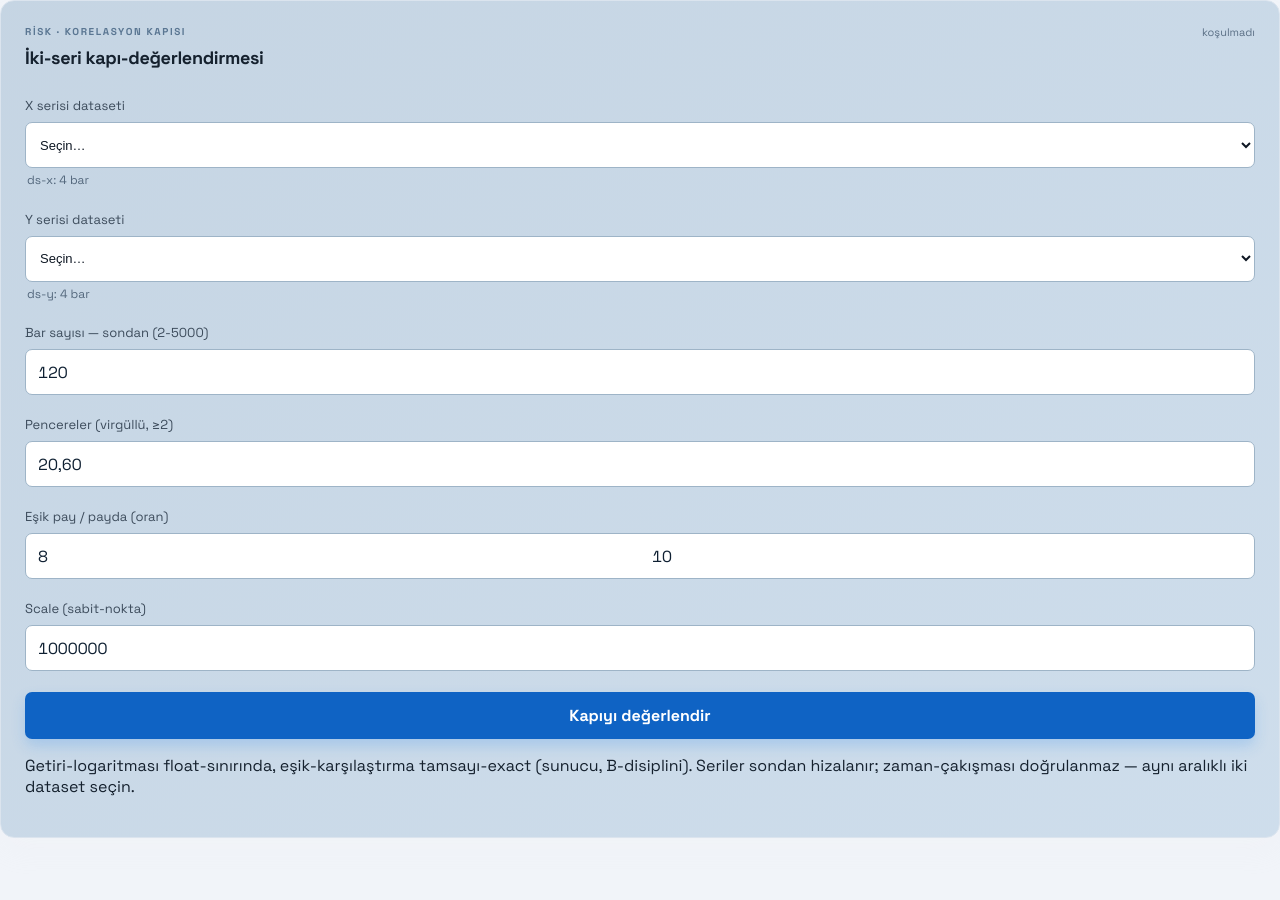
Test: CorrelationPanel › AA.10b: form-doğrulama (bar-sayısı, yetersiz-seri, pencere, eşik)
The image size is (1280, 900).
Replace the text in the field labelled "Bar sayısı — sondan (2-5000)" with "9" at (640, 372), box [26,351,1254,394]
Click the button "Kapıyı değerlendir" at (640, 716), box [25,692,1255,739]
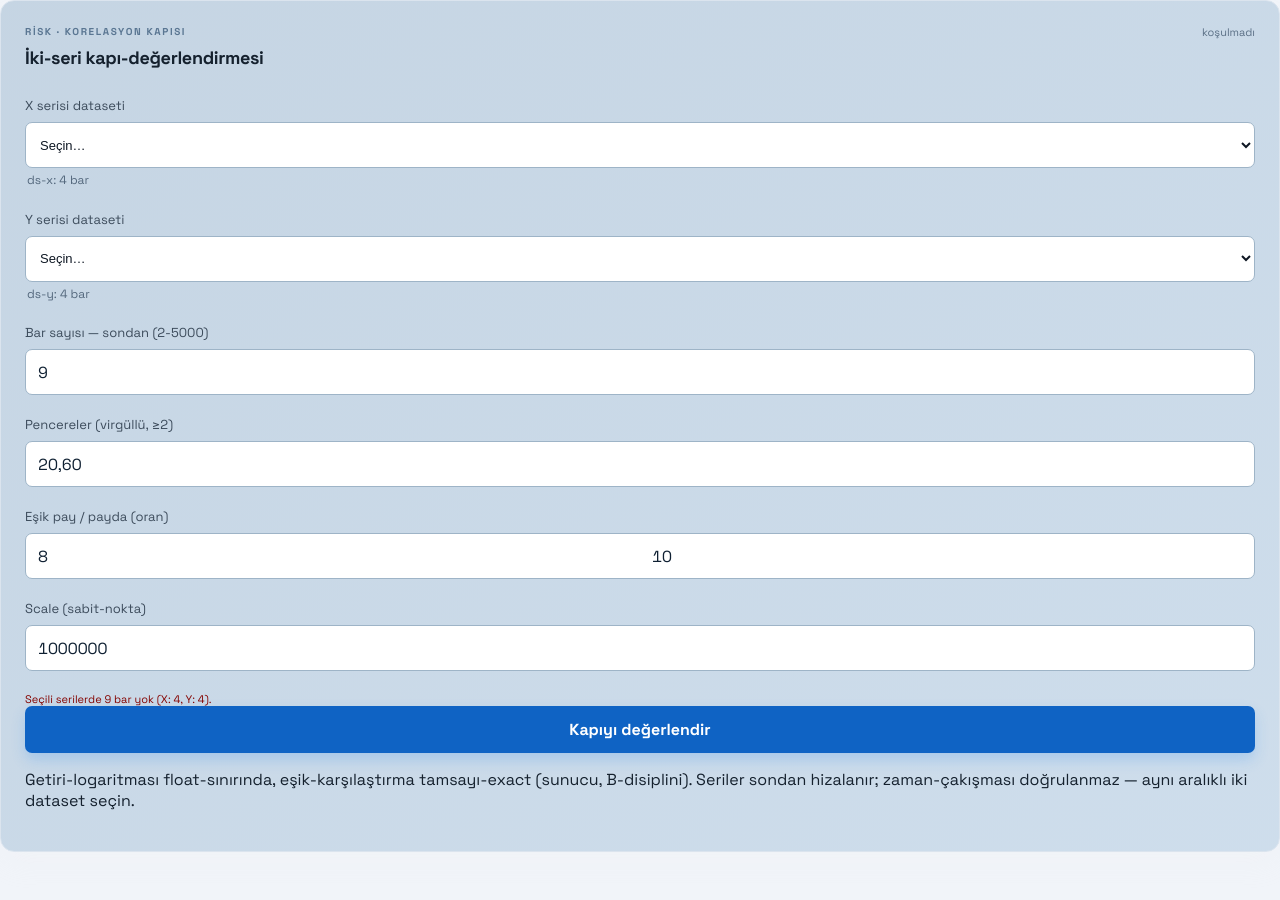
Expected: the message shows "9 bar yok", [25,692,212,706]
Replace the text in the field labelled "Bar sayısı — sondan (2-5000)" with "4" at (640, 372), box [26,351,1254,394]
Replace the text in the field labelled "Pencereler (virgüllü, ≥2)" with "1,20" at (640, 464), box [26,443,1254,486]
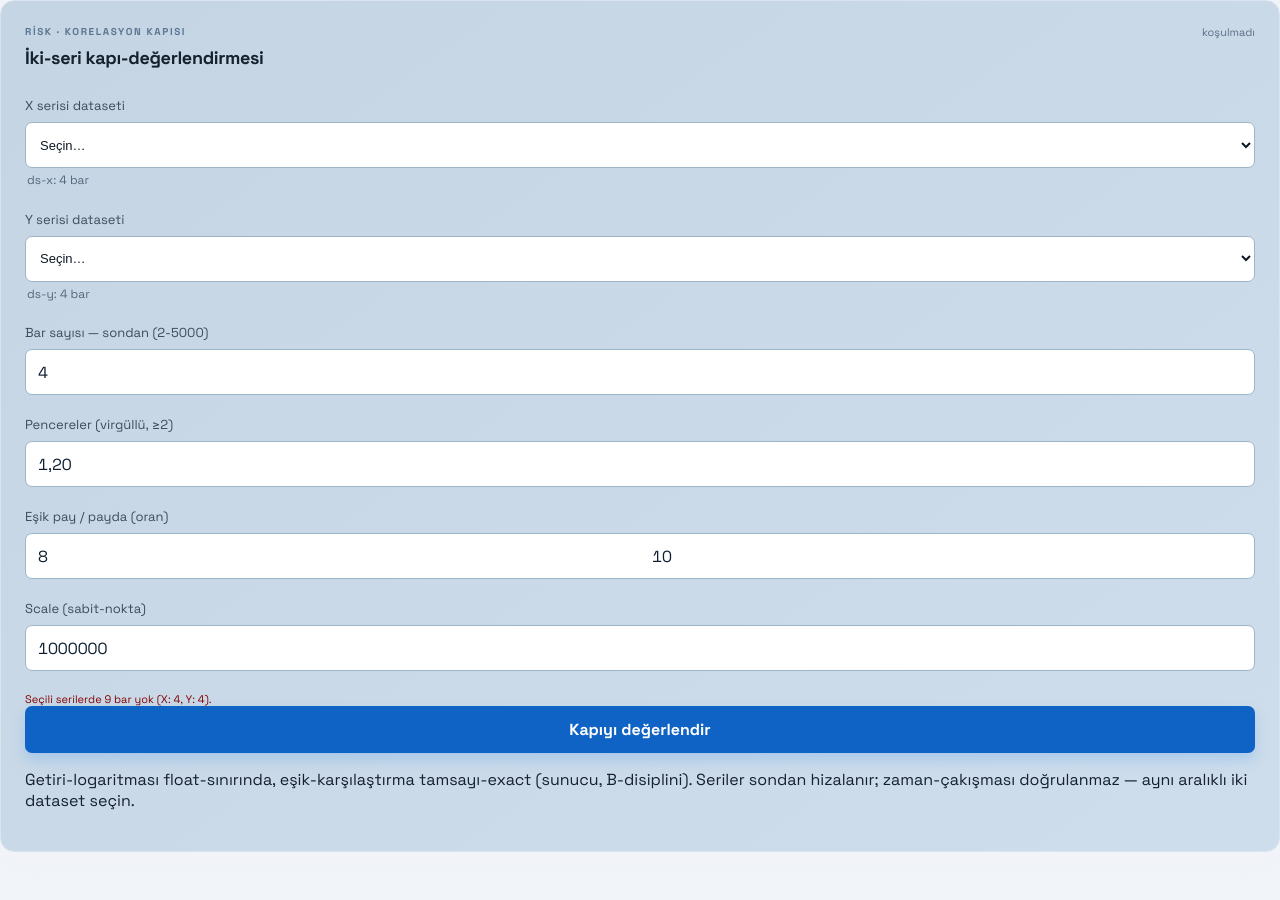
Click the button "Kapıyı değerlendir" at (640, 730), box [25,706,1255,753]
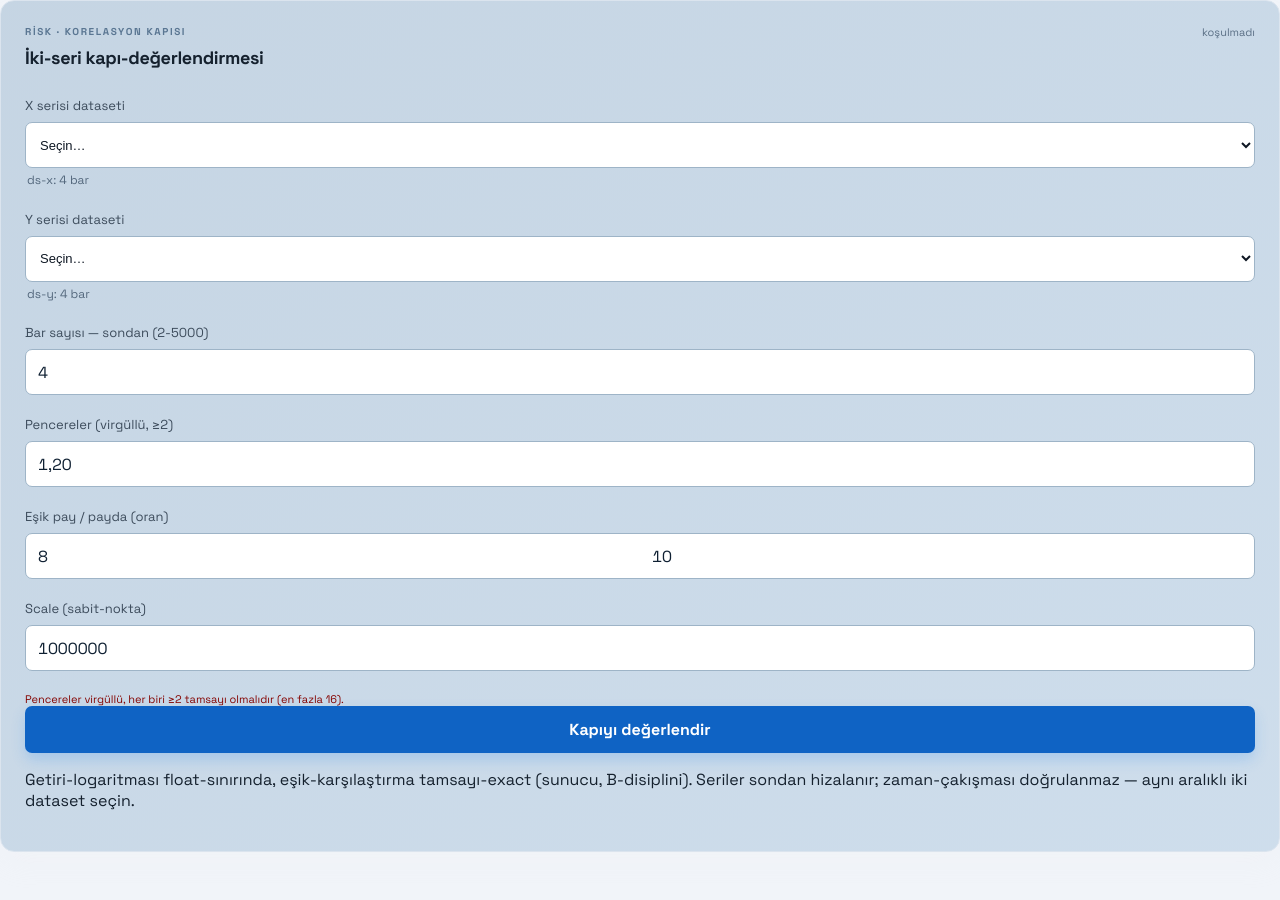
Expected: the message shows "Pencereler", [25,692,344,706]
Replace the text in the field labelled "Pencereler (virgüllü, ≥2)" with "20,60" at (640, 464), box [26,443,1254,486]
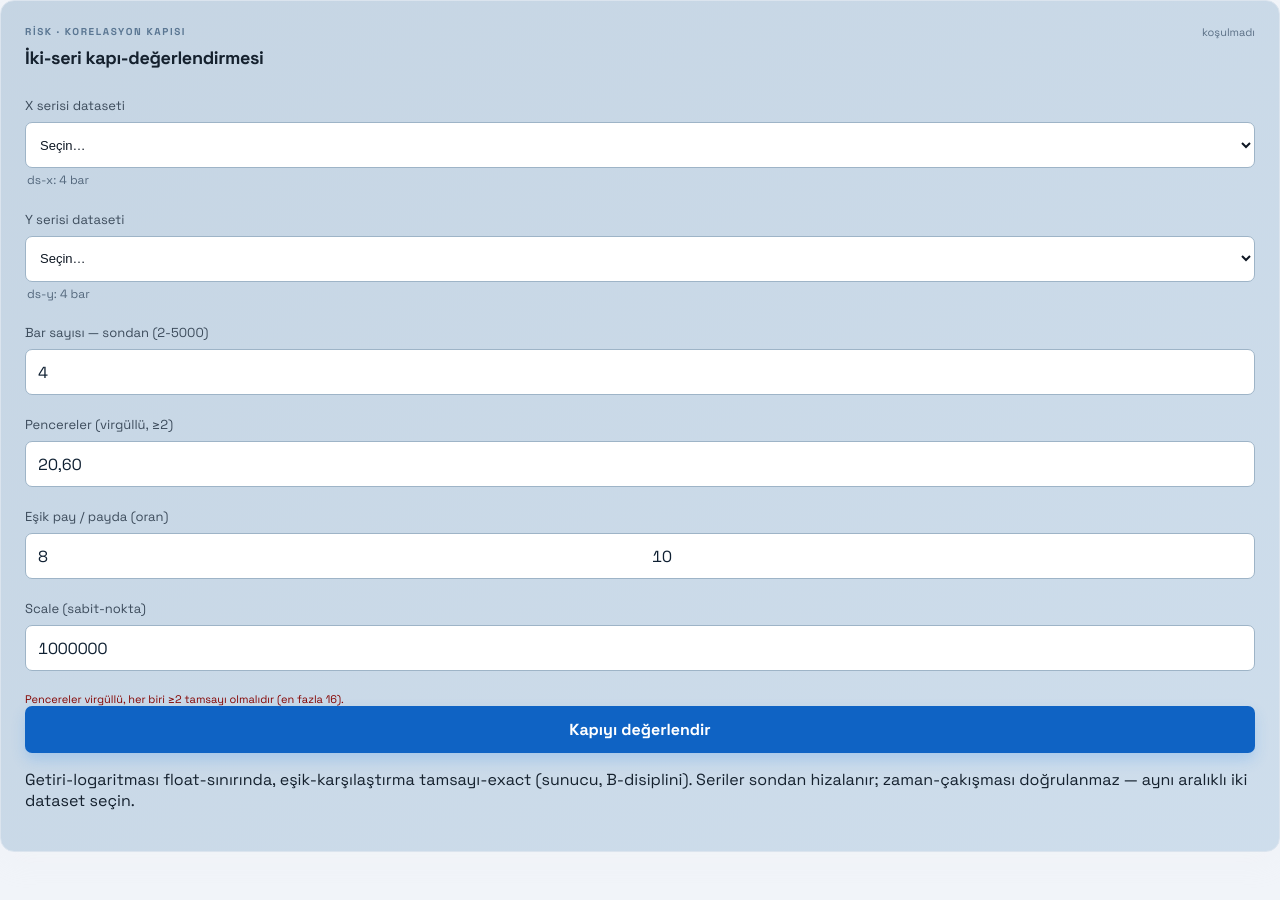
Replace the text in the field named "Eşik payda" with "0" at (947, 556), box [640,535,1254,578]
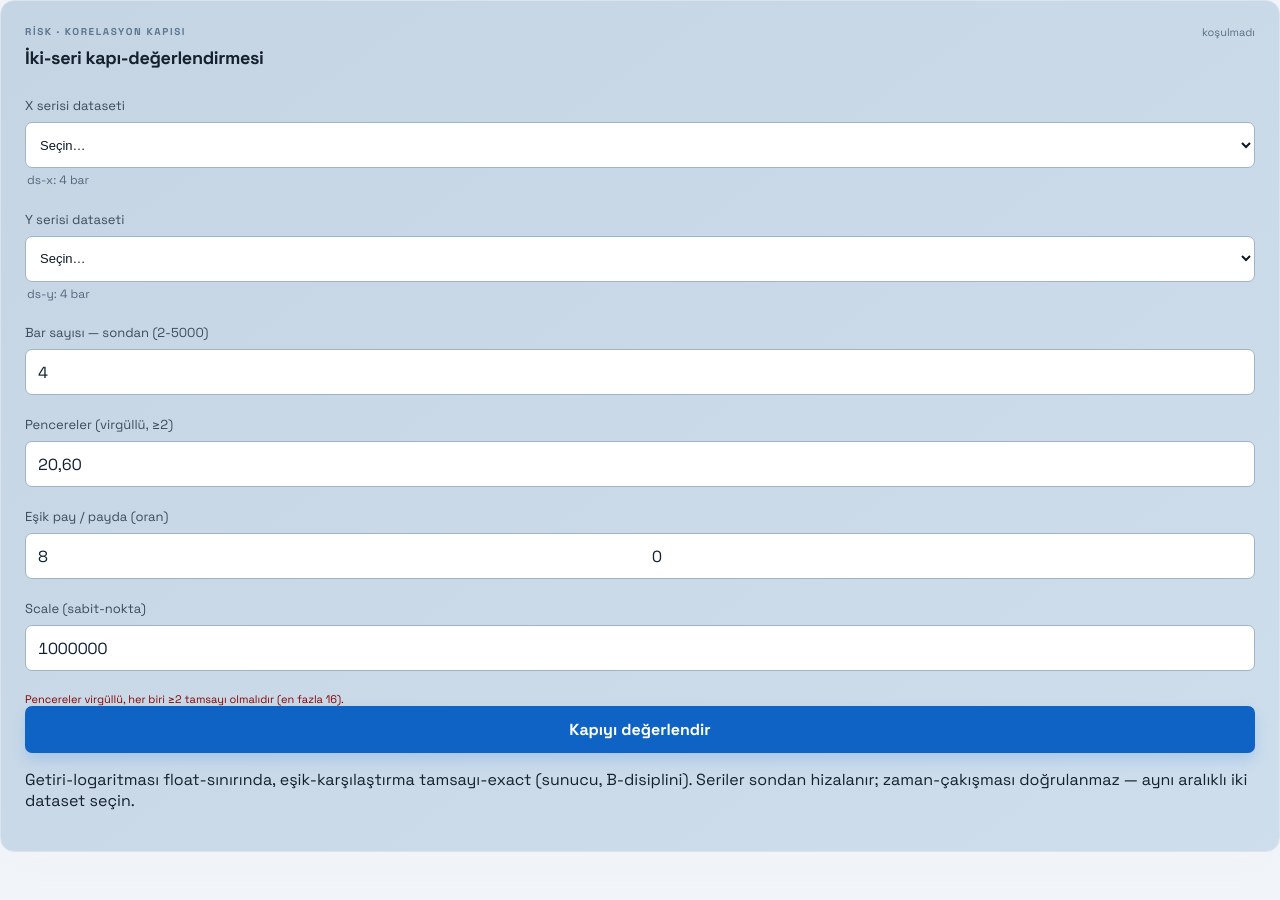
Click the button "Kapıyı değerlendir" at (640, 730), box [25,706,1255,753]
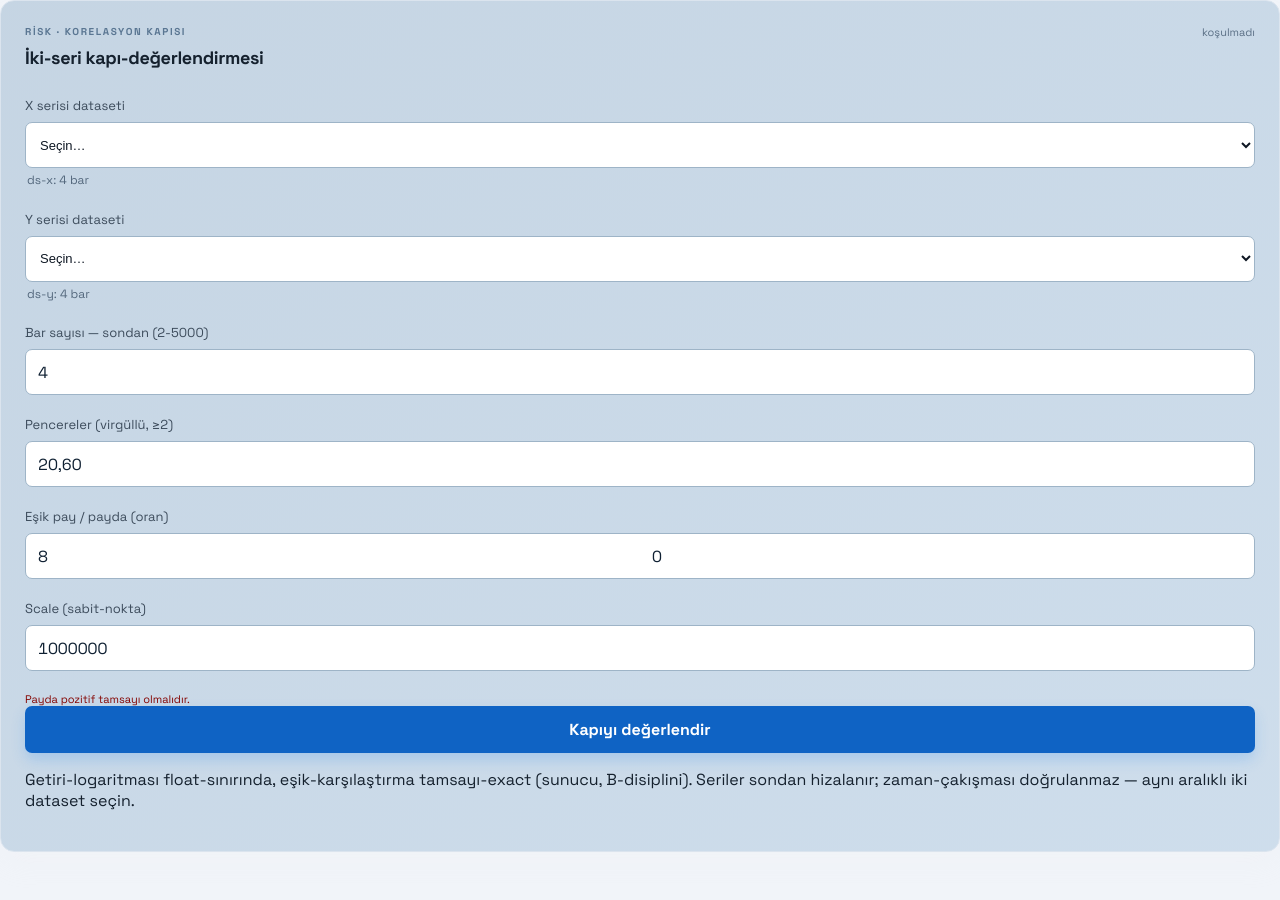
Expected: the message shows "pozitif tamsayı", [25,692,190,706]
